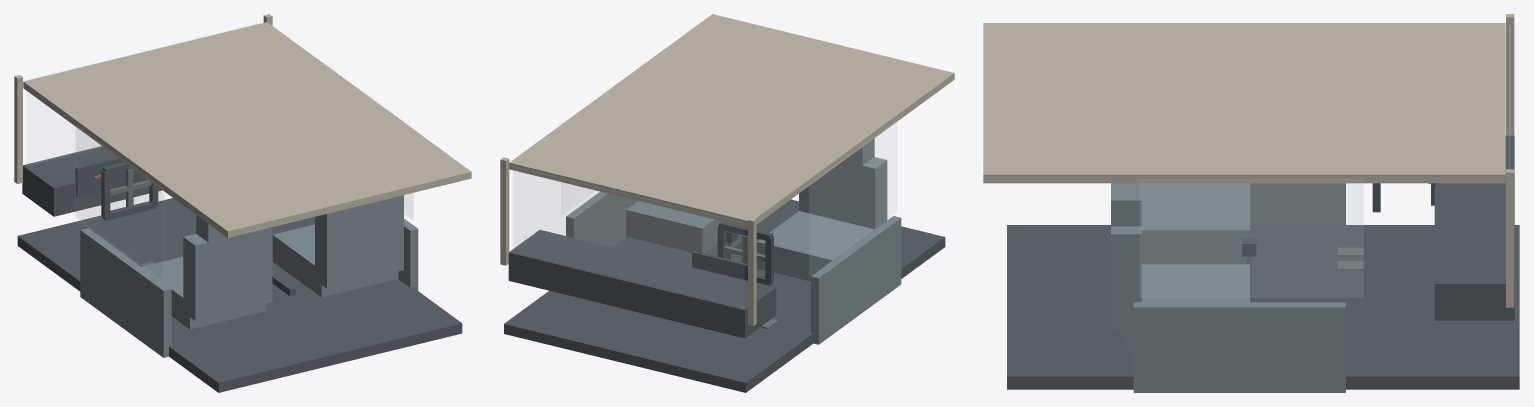
The model's file is taxi_cabin.glb.
The picture shows the model from 3 angles, left to right: view 1: azimuth 30°, elevation 25°; view 2: azimuth 150°, elevation 25°; view 3: azimuth 270°, elevation 25°; orthographic projection. The views are drawn at different scales.
Parts seen in each view (by area): view 1: body, glass_side_left, glass_windshield, steering_wheel; view 2: body, glass_windshield, glass_side_left, steering_wheel; view 3: body, glass_side_right.
Part boxes in pixels (x1,y1,x2,y2): body: (14, 14, 471, 392); glass_side_left: (76, 126, 163, 281); glass_windshield: (27, 23, 258, 164); steering_wheel: (101, 162, 158, 220); body: (500, 14, 954, 392); glass_windshield: (513, 166, 743, 306); glass_side_left: (809, 121, 896, 275); steering_wheel: (717, 221, 773, 285); body: (983, 14, 1519, 392); glass_side_right: (1140, 180, 1362, 296).
Bounding box in the file's own units: 1.59 × 1.03 × 2.27.
